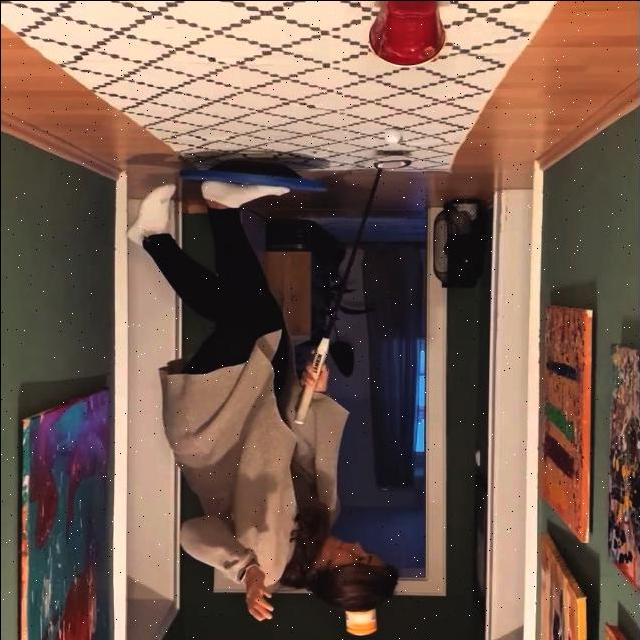golf ball: (383, 127, 401, 142)
golf club-handle: (293, 158, 410, 424)
golf club-head: (372, 158, 410, 168)
